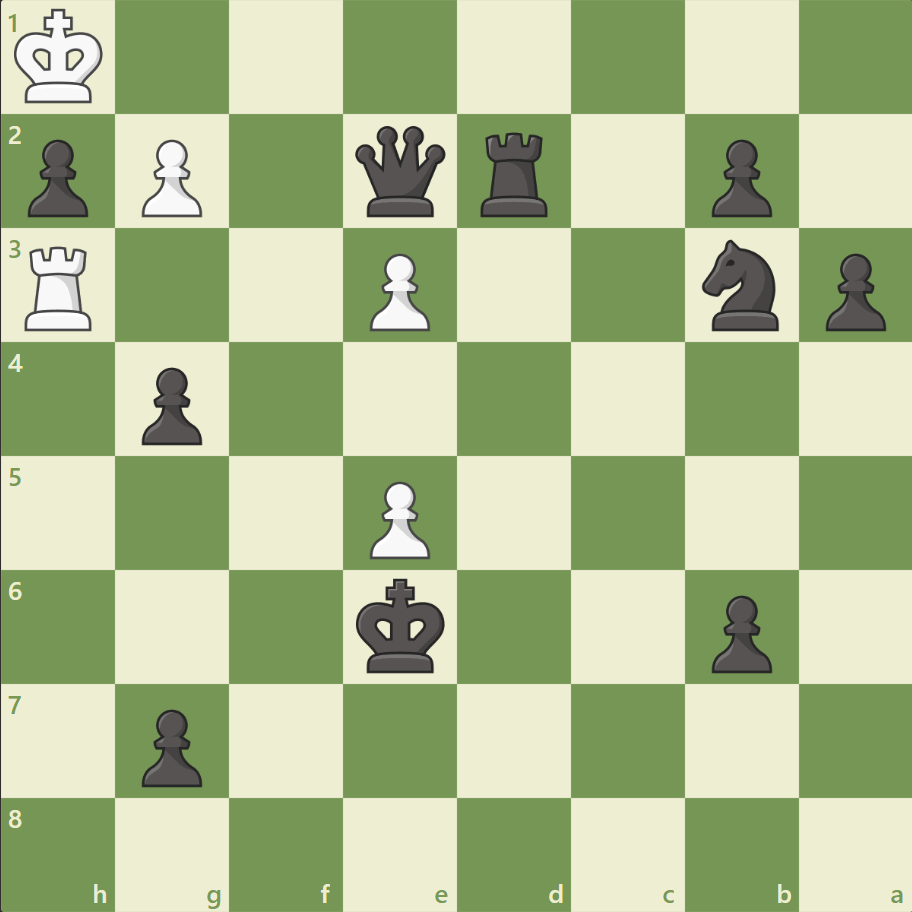K: (11, 4, 111, 112)
P: (133, 132, 208, 223), (361, 473, 435, 564), (361, 246, 435, 337)
R: (19, 239, 102, 336)
k: (351, 571, 451, 679)
n: (692, 234, 789, 337)
p: (133, 700, 208, 791), (701, 586, 776, 677), (133, 359, 208, 450), (701, 132, 776, 223), (20, 132, 95, 223), (815, 246, 889, 337)
q: (351, 122, 450, 222)
r: (473, 125, 556, 222)
